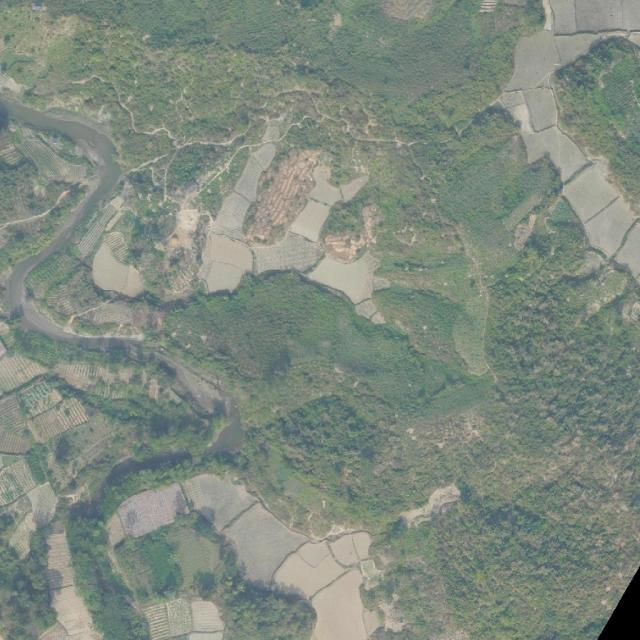agricultural_land: (211, 493, 309, 591), (210, 134, 279, 243), (95, 477, 193, 549), (40, 532, 103, 639), (177, 454, 256, 534), (269, 534, 347, 608), (307, 237, 386, 309), (113, 477, 192, 541), (80, 242, 151, 310), (311, 569, 368, 639), (25, 394, 90, 446), (252, 232, 324, 273), (203, 231, 259, 274), (297, 163, 344, 214), (4, 510, 49, 561), (0, 457, 40, 509), (200, 257, 246, 302), (16, 377, 64, 420), (289, 195, 332, 243), (25, 481, 64, 527), (0, 494, 37, 529), (297, 535, 333, 570), (329, 532, 362, 569), (191, 600, 224, 633), (166, 598, 193, 637), (0, 395, 26, 434), (338, 175, 373, 202), (360, 557, 386, 590), (353, 298, 380, 323), (104, 548, 124, 578), (352, 532, 373, 560), (0, 319, 17, 350), (1, 453, 24, 469), (369, 311, 386, 329)
dryland: (12, 133, 90, 194)
greenland: (0, 155, 85, 274), (0, 515, 55, 640)
